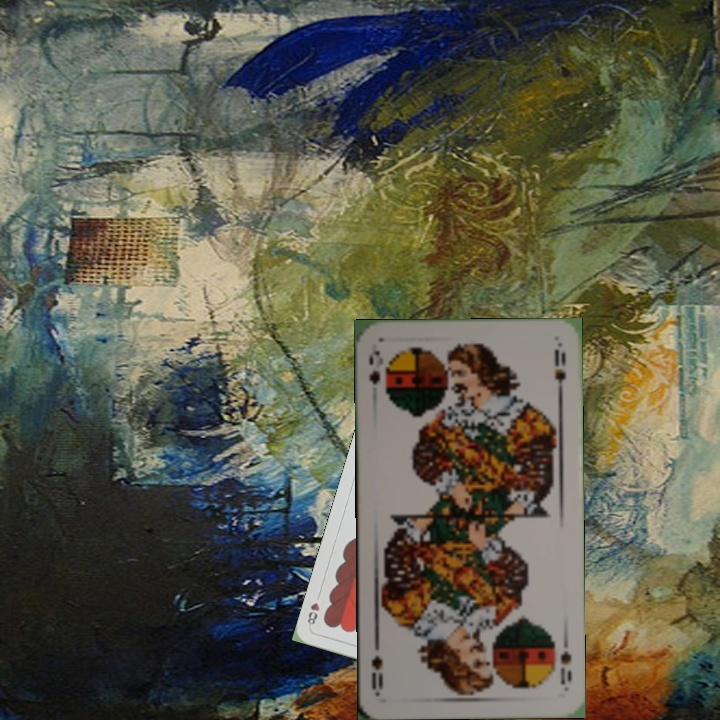SO: (557, 633, 574, 688), (365, 346, 382, 387)
